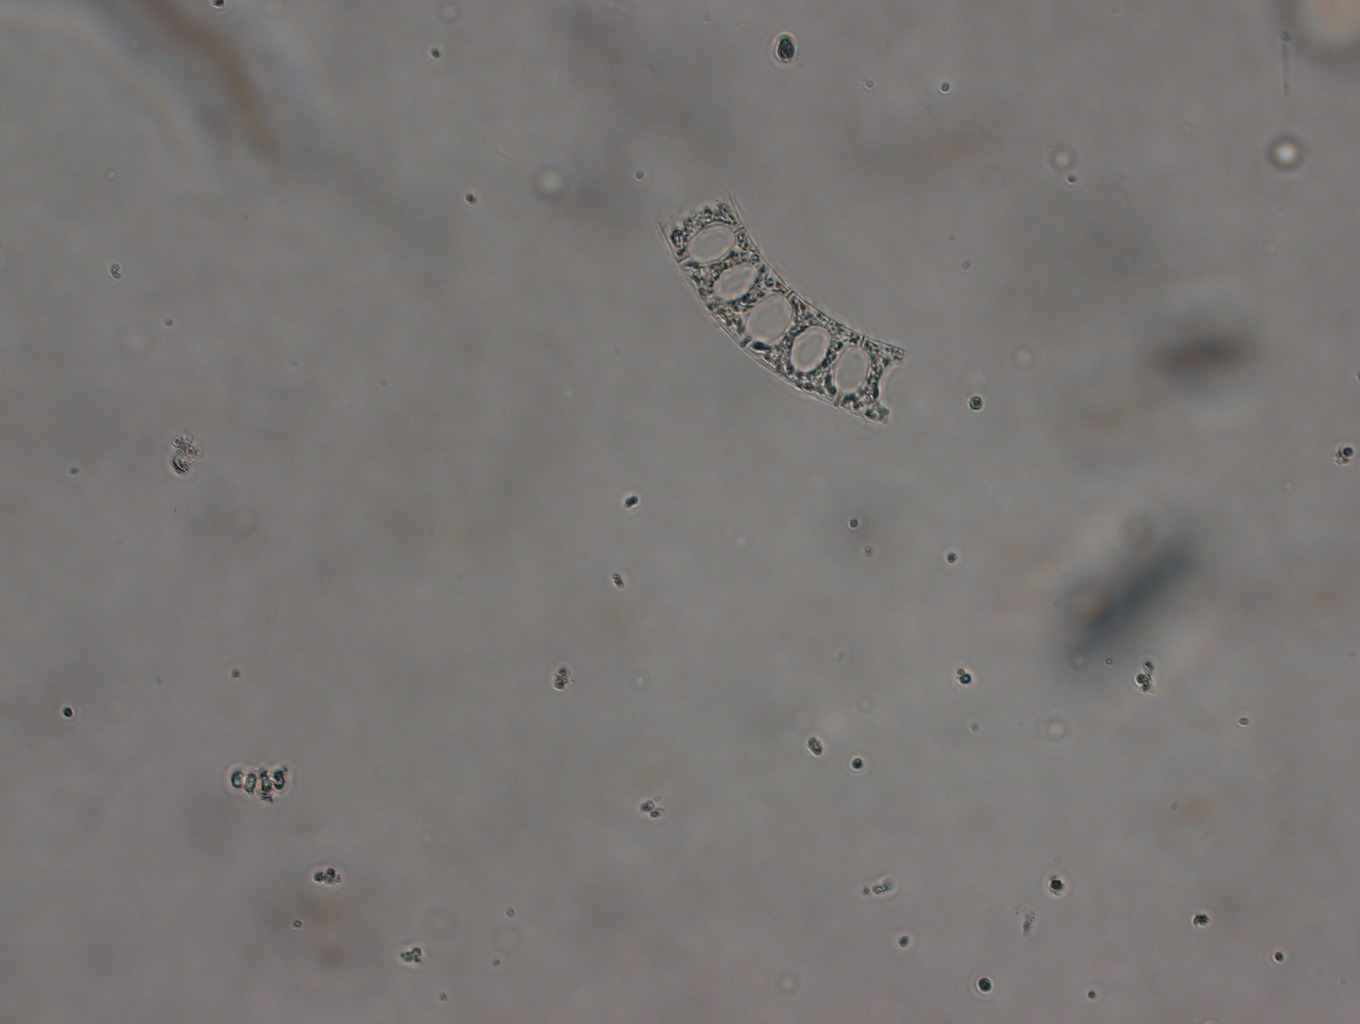eucampia: (647, 184, 912, 430)
